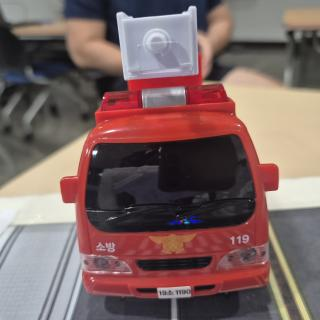Fire_truck: (60, 80, 279, 300)
